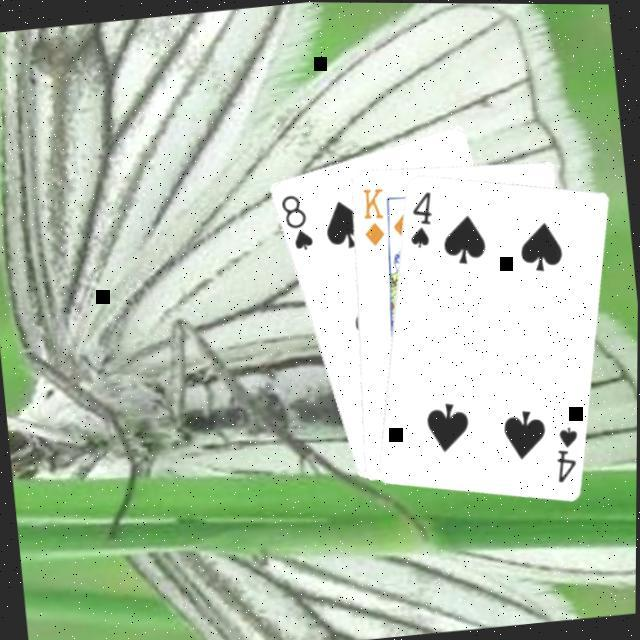4S: (546, 423, 584, 487), (401, 187, 437, 252)
8S: (275, 191, 315, 256)
KD: (354, 183, 389, 252)
